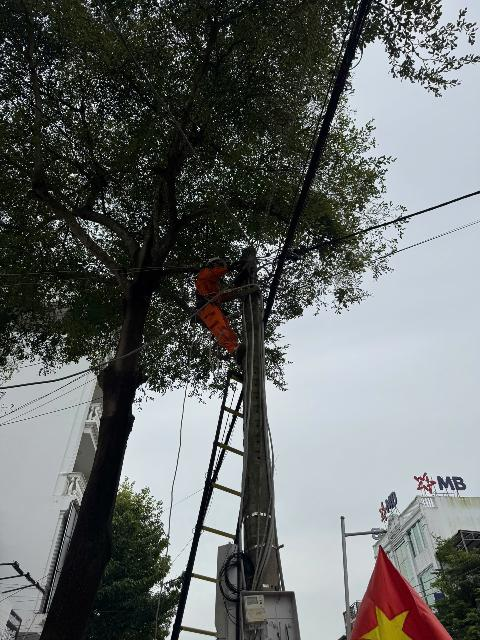harness: (190, 286, 221, 310)
helmet: (203, 254, 232, 271)
shoes: (230, 345, 248, 367)
